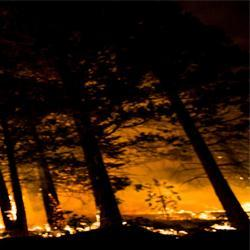fire: (151, 226, 186, 237), (8, 195, 17, 221)
